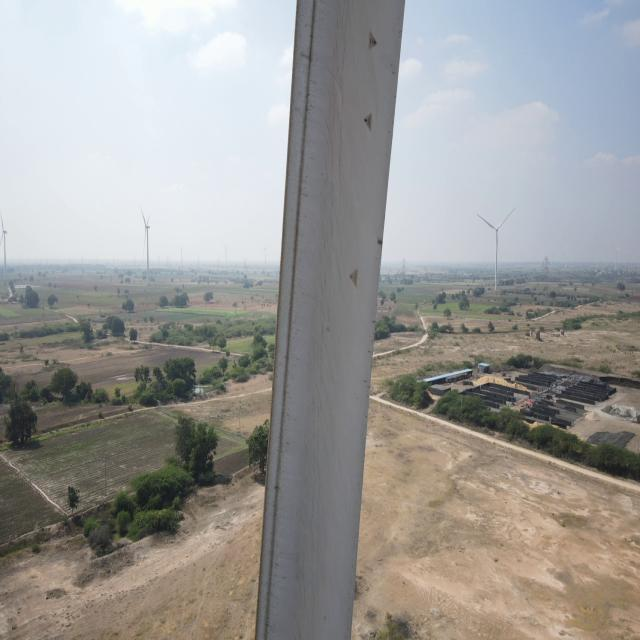Dirt: (270, 2, 355, 640)
Pin Hole: (359, 112, 377, 132), (365, 32, 378, 48), (378, 238, 386, 250)
